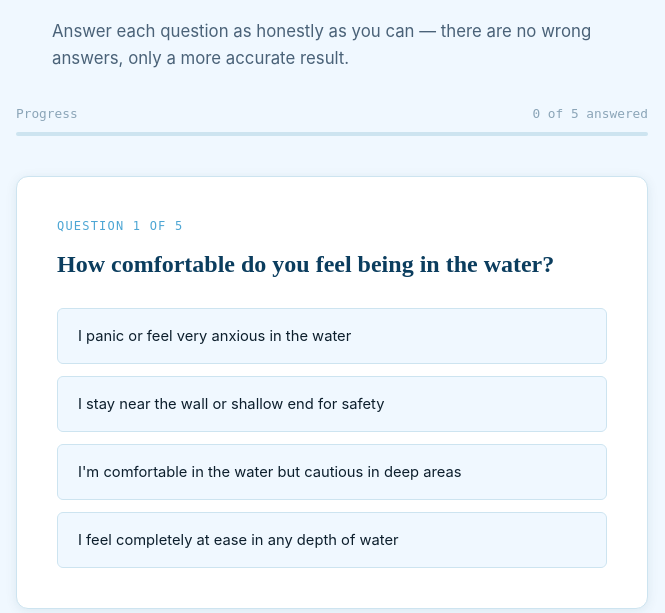
it: Assessment page › score is calculated correctly for mixed answers
Step 1. Click the radio button "I stay near the wall or shallow end for safety" → [332, 404], box [57, 376, 607, 432]
(page scrolled)
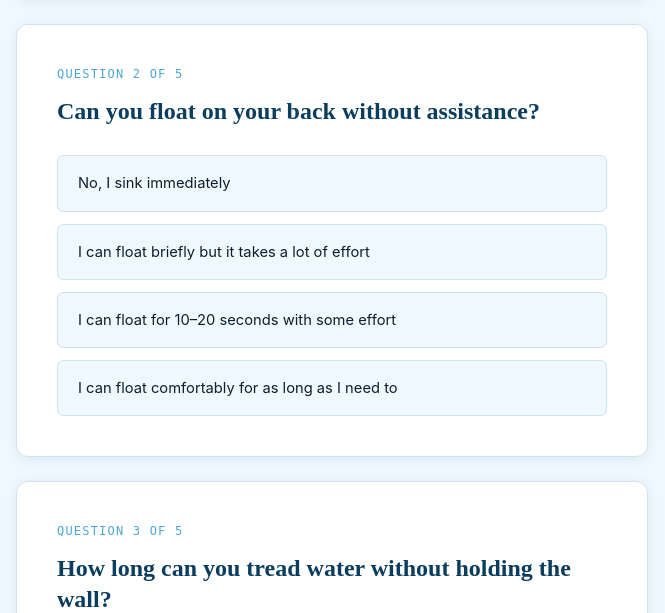
Step 2. Click the radio button "I can float briefly but it takes a lot of effort" → [332, 252], box [57, 224, 607, 280]
(page scrolled)
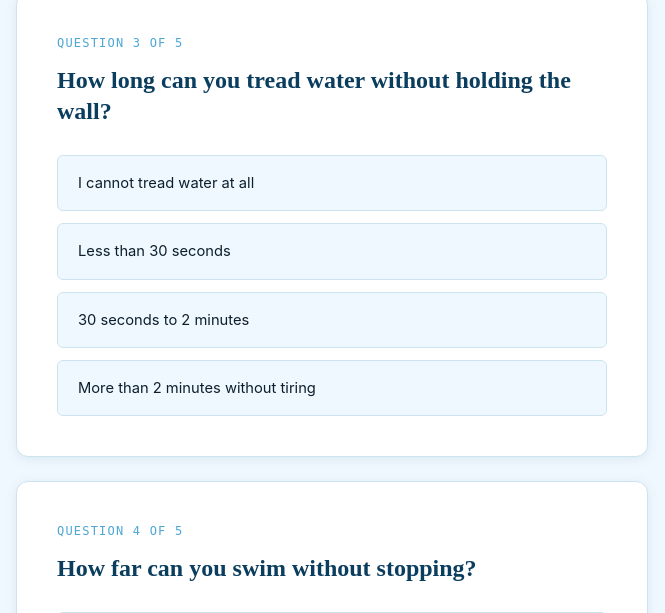
Step 3. Click the radio button "Less than 30 seconds" → [154, 251], box [57, 223, 607, 280]
(page scrolled)
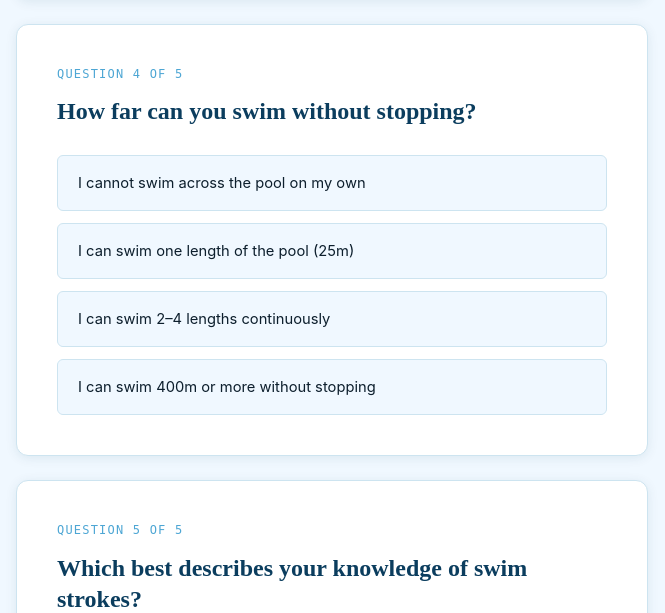
Step 4. Click the radio button "I can swim one length of the pool (25m)" → [332, 251], box [57, 223, 607, 279]
(page scrolled)
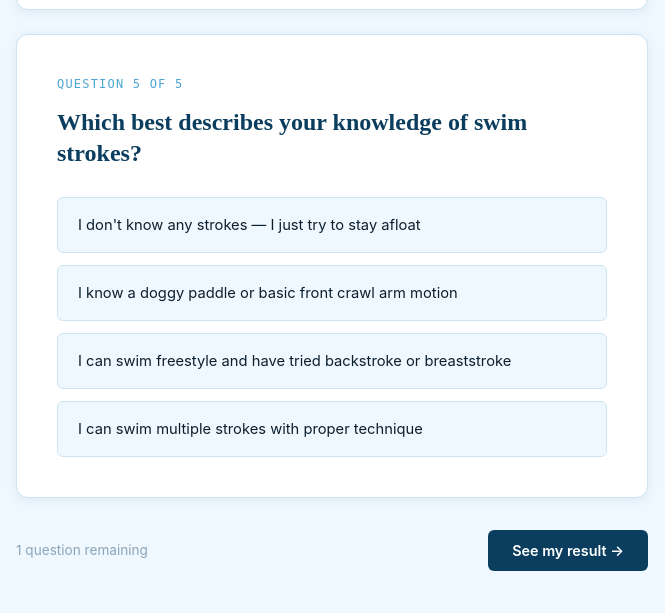
Step 5. Click the radio button "I know a doggy paddle or basic front crawl arm motion" → [332, 293], box [57, 265, 607, 321]
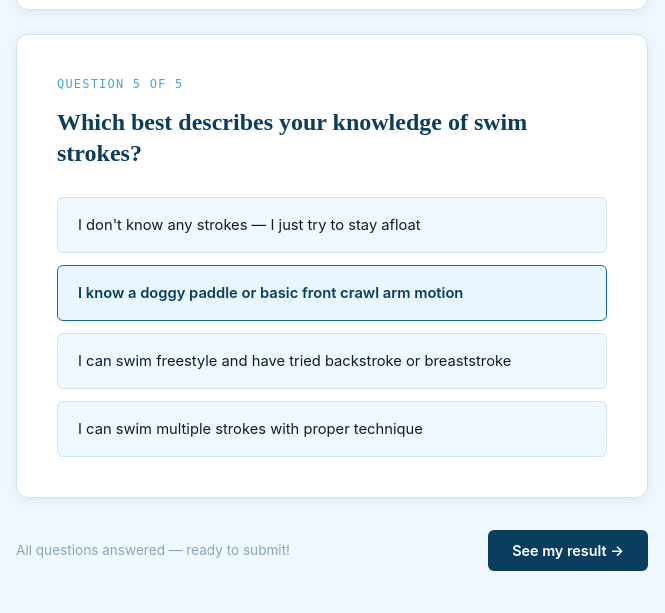
Step 6. Click the button "See my result →" → [568, 551], box [488, 530, 648, 571]
(page scrolled)
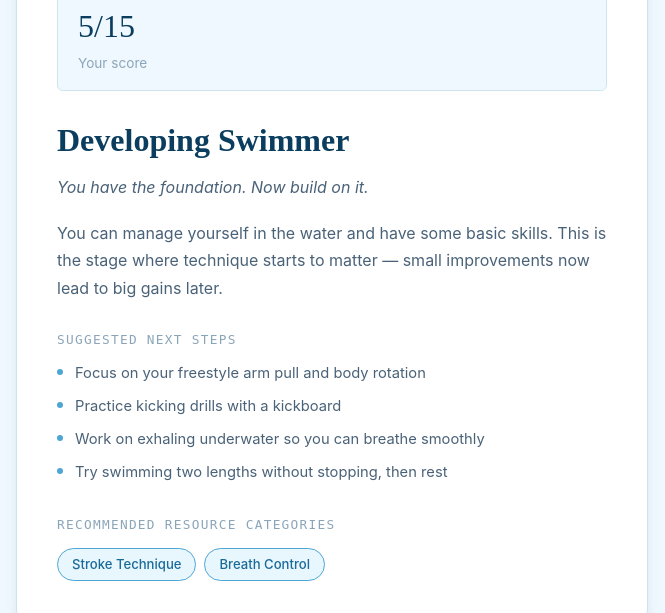
Result: the text "5/15" is shown at [78, 8, 135, 44]
